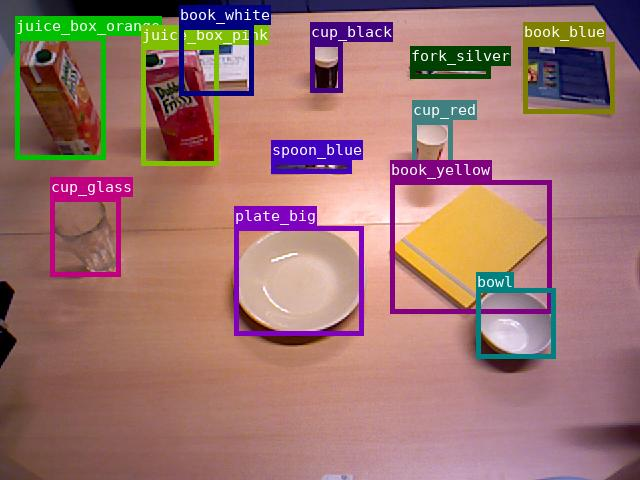book_blue: (523, 42, 614, 113)
book_white: (179, 25, 253, 95)
book_yellow: (390, 180, 551, 313)
bowl: (476, 288, 555, 358)
cup_black: (310, 42, 342, 92)
cup_glass: (50, 197, 120, 276)
cup_red: (412, 120, 452, 176)
fork_silver: (410, 66, 490, 78)
juice_box_orange: (15, 36, 105, 159)
juice_box_pink: (141, 45, 218, 165)
plate_big: (234, 226, 363, 335)
spoon_blue: (271, 160, 351, 173)
